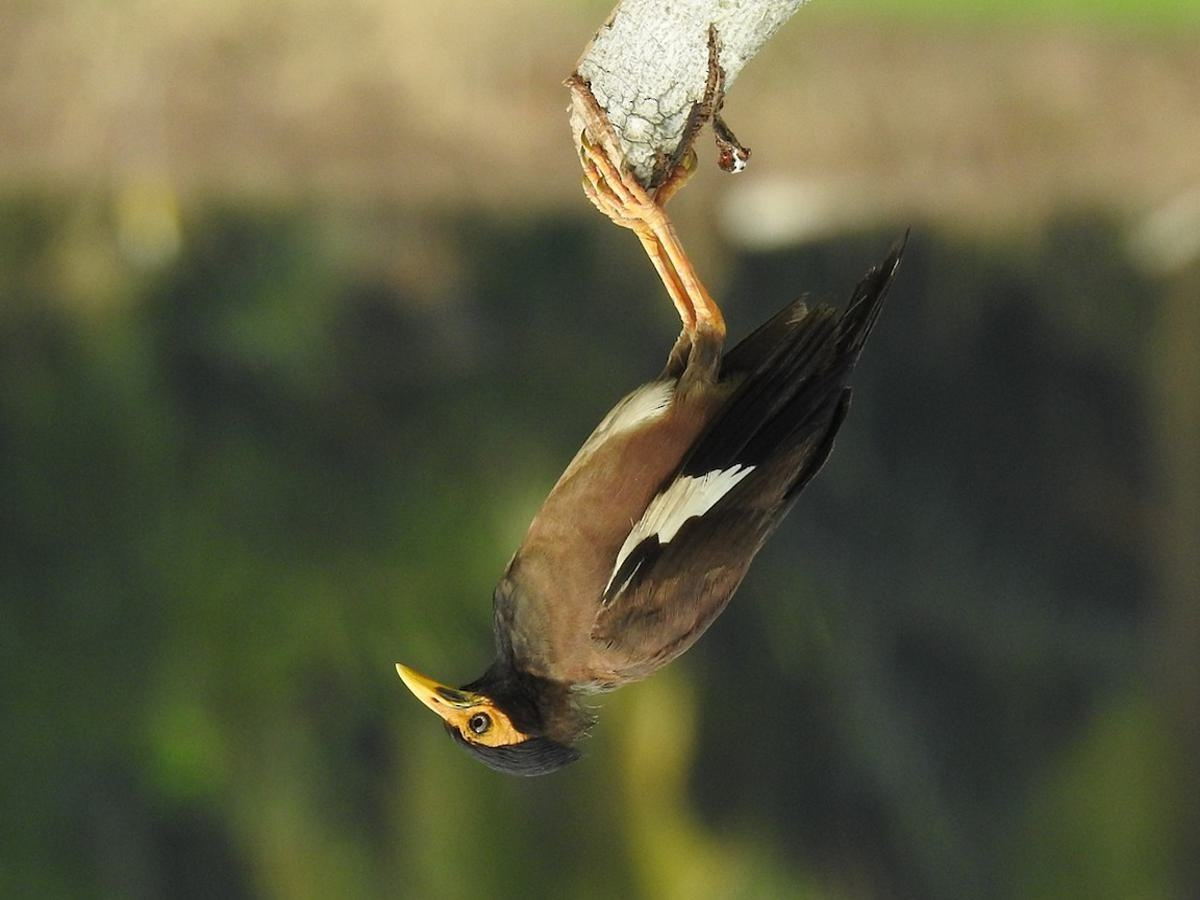myna: (391, 98, 925, 840)
